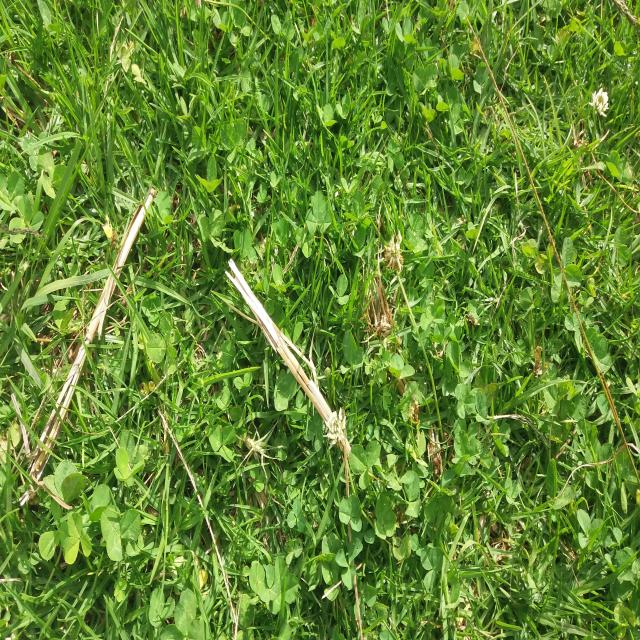Four Leaf Clover: (420, 299, 446, 331)
